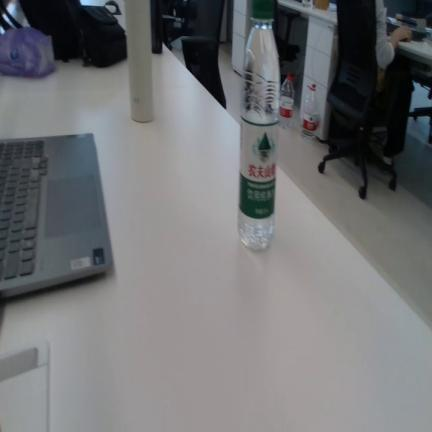bottle: (238, 0, 280, 250), (300, 83, 320, 140), (279, 74, 294, 128)
